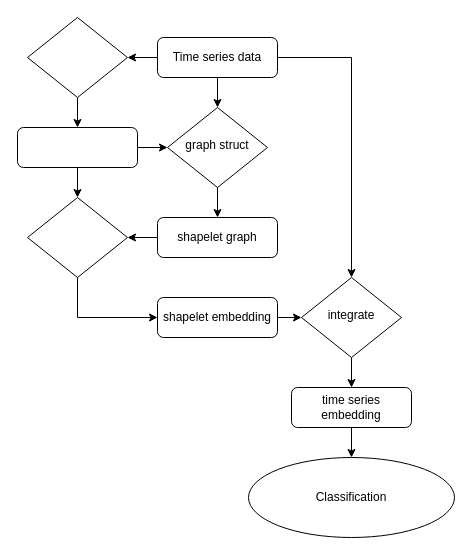
Image size: 472x555. Some labels were removed from this diagram. The shapes that lost their labels are listed below. From the top down, each one's centre as x and y in pixels, then its label:
At [77,57]: "shapelet finding".
At [77,147]: "shapelet set".
At [77,237]: "deepwalk".
